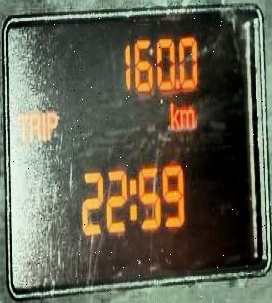-: (174, 77, 179, 90)
0: (178, 36, 197, 88), (155, 37, 174, 89)
1: (123, 42, 130, 91)
2: (104, 169, 127, 231), (81, 170, 102, 234)
5: (137, 166, 160, 228)
6: (133, 39, 152, 91)
9: (161, 163, 184, 226)
X: (128, 178, 137, 219), (28, 111, 40, 139), (178, 107, 193, 127), (16, 113, 27, 139), (46, 111, 56, 139), (169, 101, 178, 130), (41, 111, 46, 141)
